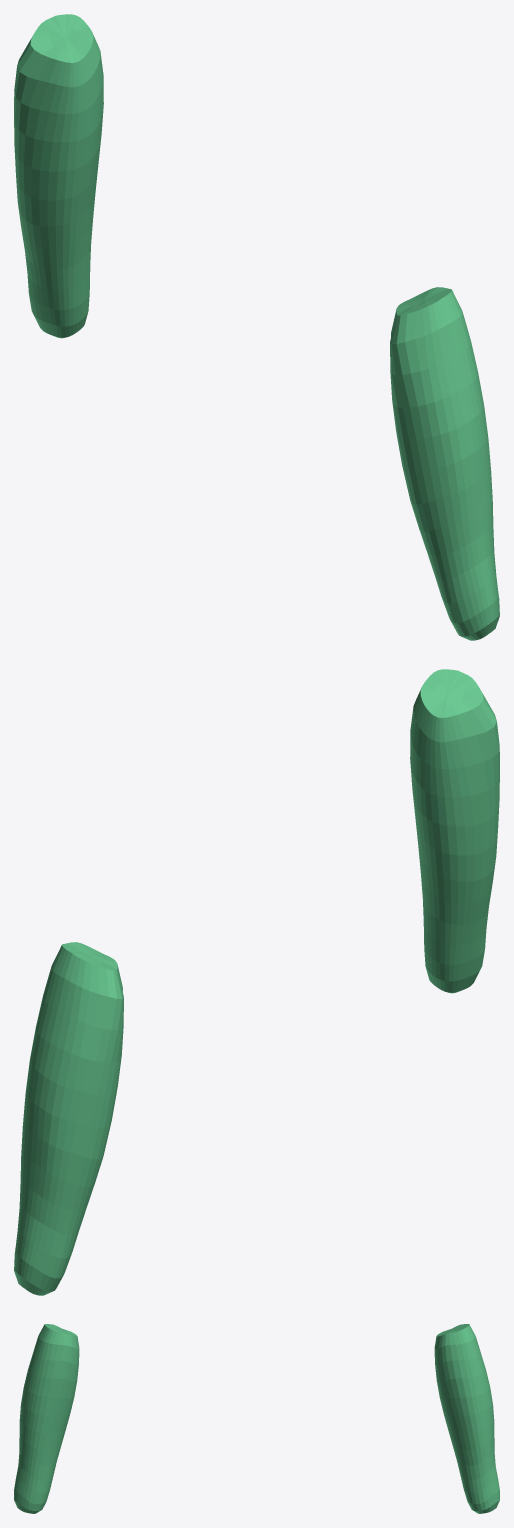
The model's file is forearms_variant-1.glb.
The picture shows the model from 3 angles, top to bottom: view 1: azimuth 30°, elevation 25°; view 2: azimuth 150°, elevation 25°; view 3: azimuth 270°, elevation 25°; orthographic projection. The views are drawn at different scales.
Parts seen in each view (by area): view 1: fore-arms-3; view 2: fore-arms-3; view 3: fore-arms-3.
Boxes of the visible parts, x1,y1,x2,y2 form: fore-arms-3: (14, 14, 499, 640); fore-arms-3: (14, 669, 499, 1295); fore-arms-3: (14, 1324, 499, 1513).
Size of the model in its own units: 0.2216 by 0.8348 by 2.
